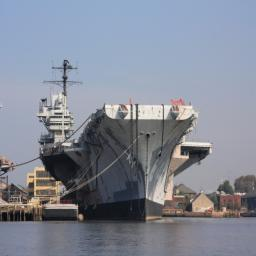Portanaves: (36, 56, 213, 225)
